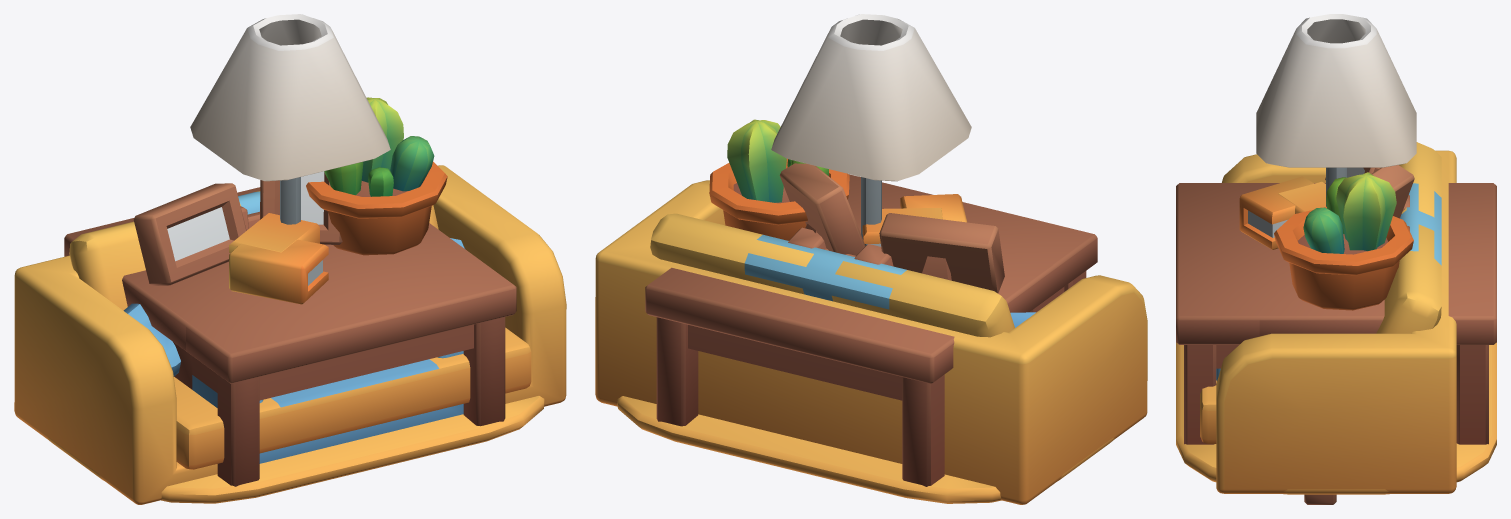
The model's file is props-furniture.glb.
The picture shows the model from 3 angles, left to right: view 1: azimuth 30°, elevation 25°; view 2: azimuth 150°, elevation 25°; view 3: azimuth 270°, elevation 25°; orthographic projection. The views are drawn at different scales.
Parts seen in each view (by area): view 1: couch_pillows, table_medium, cabinet_medium_decorated, lamp_standing, rug_oval_A, cabinet_small_decorated, armchair; view 2: couch_pillows, table_medium, lamp_standing, cabinet_medium_decorated, rug_oval_A, cabinet_small_decorated, armchair, chair_A_wood; view 3: couch_pillows, table_medium, lamp_standing, cabinet_medium_decorated, rug_oval_A, cabinet_small_decorated, armchair.
Boxes of the visible parts, x1,y1,x2,y2 form: couch_pillows: (14, 165, 566, 504); table_medium: (64, 187, 516, 486); cabinet_medium_decorated: (122, 97, 447, 389); lamp_standing: (190, 14, 390, 224); rug_oval_A: (47, 396, 544, 503); cabinet_small_decorated: (229, 171, 342, 304); armchair: (192, 191, 463, 463); couch_pillows: (595, 180, 1147, 504); table_medium: (645, 174, 1097, 486); lamp_standing: (771, 14, 971, 245); cabinet_medium_decorated: (709, 119, 1052, 312); rug_oval_A: (617, 396, 1114, 503); cabinet_small_decorated: (779, 163, 966, 255); armchair: (744, 234, 906, 309); chair_A_wood: (788, 227, 893, 266); couch_pillows: (1200, 142, 1456, 493); table_medium: (1176, 183, 1496, 444); lamp_standing: (1256, 14, 1416, 206); cabinet_medium_decorated: (1259, 167, 1413, 336); rug_oval_A: (1176, 342, 1496, 494); cabinet_small_decorated: (1239, 165, 1414, 249); armchair: (1216, 183, 1441, 380).
Bounding box in the file's own units: 3 × 2.82 × 2.
Materials: 1 (1 with a texture image).
